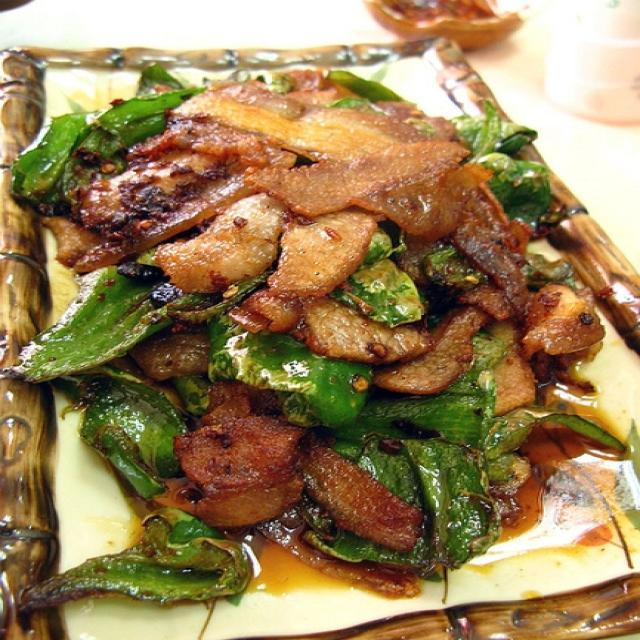猪肉菜式: (25, 34, 624, 622)
